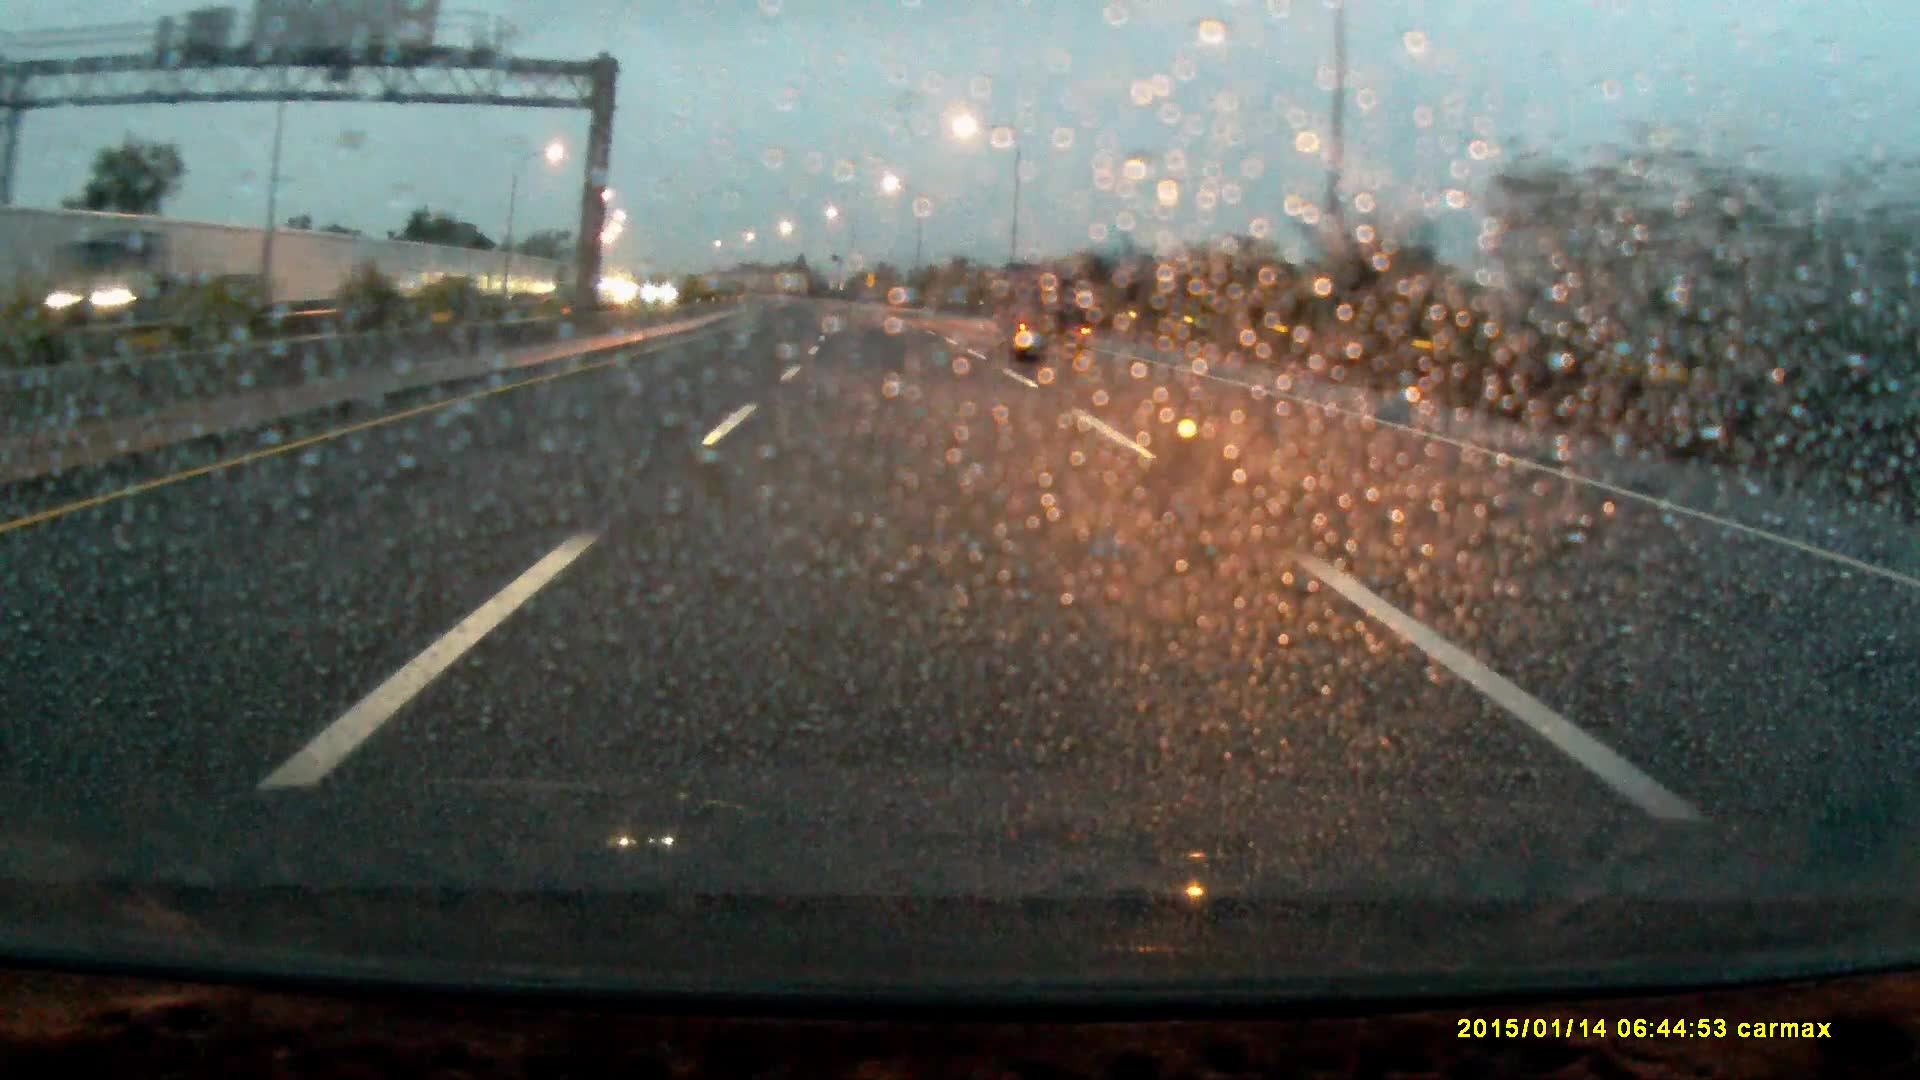vehicle: (55, 228, 252, 326), (1005, 276, 1093, 368)
